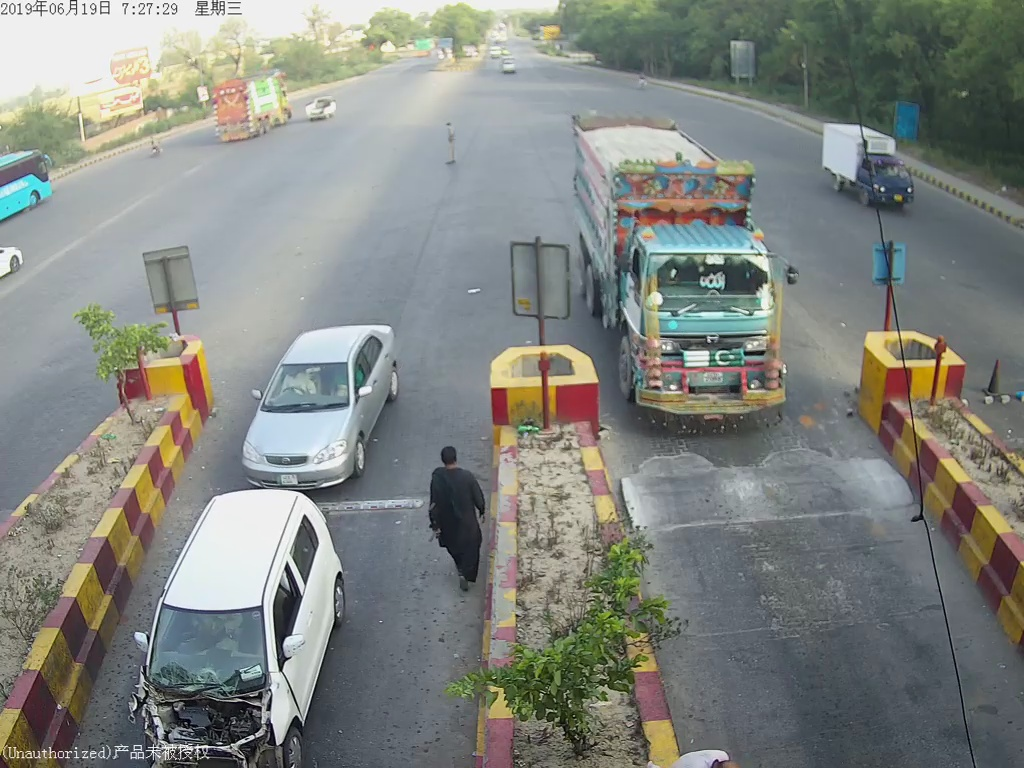Cat-1: (131, 486, 357, 736), (241, 316, 403, 490)
Cat-4: (567, 111, 798, 433)
